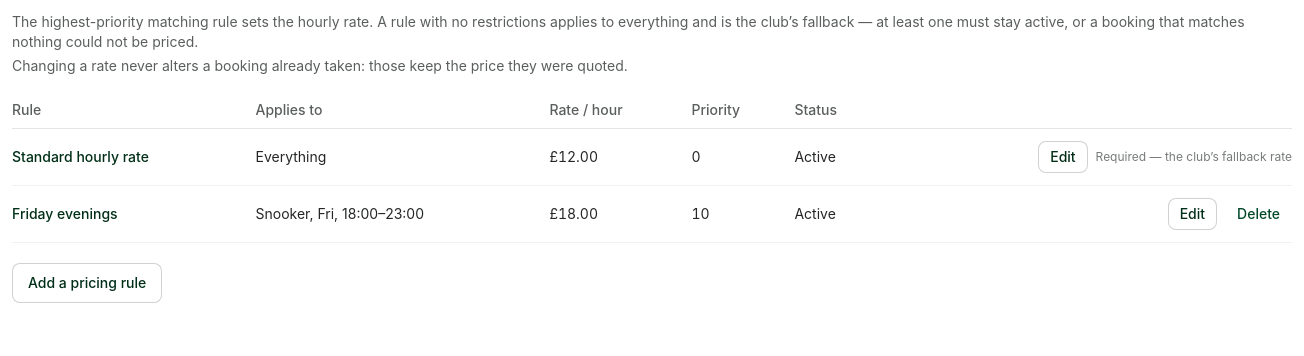
Test: PricingRules › does not strand the row on "Confirm delete" when the delete is refused
The image size is (1304, 356).
Check: the text "Friday evenings" is shown, box top-left (12, 186), bottom-right (256, 242)
Step 1. Click the button with aria-label "Delete Friday evenings" → [1259, 214], box top-left (1225, 198), bottom-right (1292, 230)
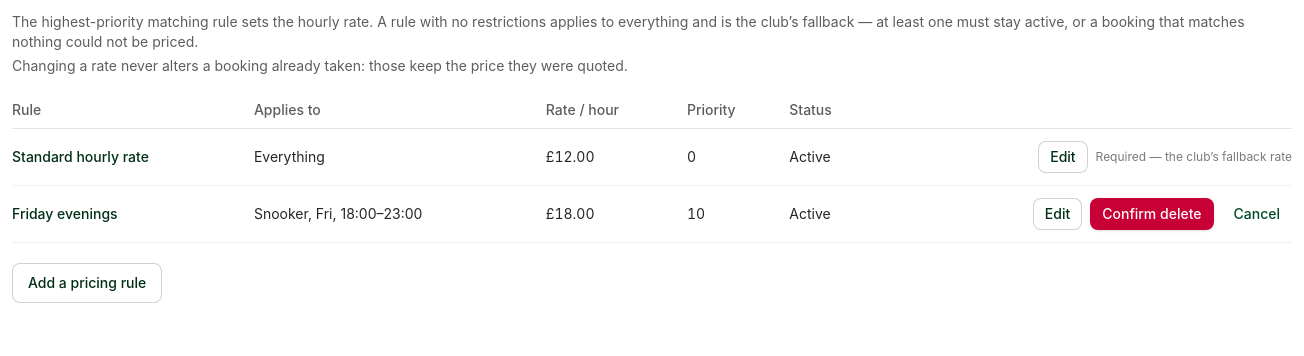
Step 2. Click the button "Confirm delete" → [1152, 214], box top-left (1090, 198), bottom-right (1214, 230)
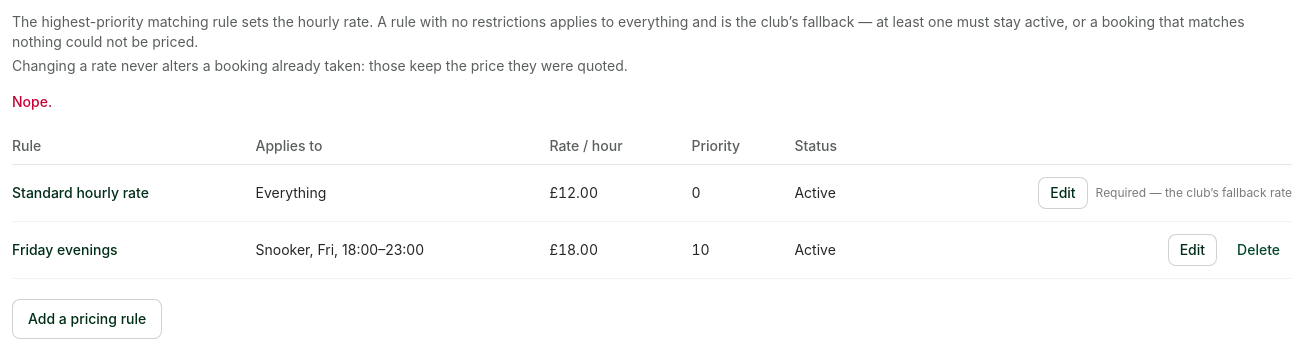
Check: the button with aria-label "Delete Friday evenings" is shown, box top-left (1225, 234), bottom-right (1292, 266)
Check: the button "Confirm delete" is gone
